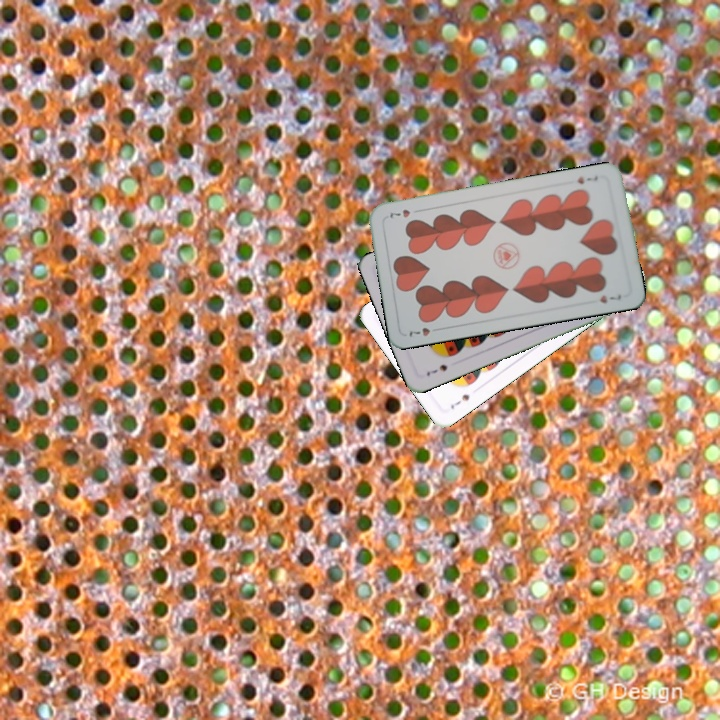H7: (404, 323, 443, 339), (573, 172, 600, 186)
S7: (446, 390, 472, 412), (422, 360, 450, 379)
